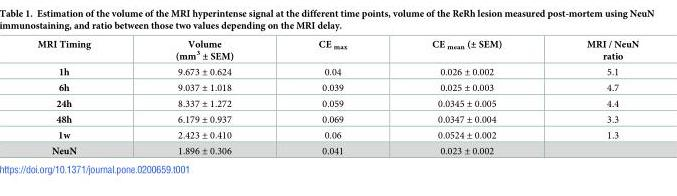table: (36, 37, 638, 156)
table column: (388, 37, 543, 156), (132, 37, 275, 156), (275, 37, 388, 156), (36, 37, 132, 156), (543, 37, 638, 156)
table column header: (36, 37, 638, 63)
table row: (36, 37, 638, 63), (36, 63, 638, 79), (36, 79, 638, 95), (36, 110, 638, 126), (36, 126, 638, 142), (36, 95, 638, 110), (36, 142, 638, 156)
